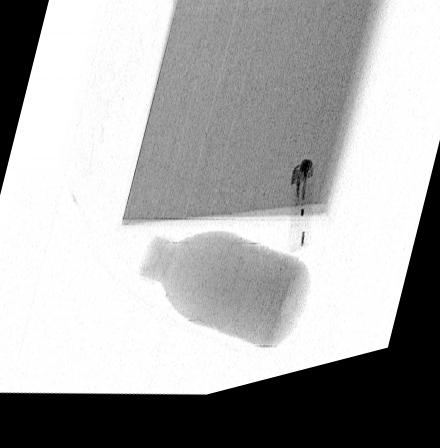Lighter: (289, 174, 315, 268)
